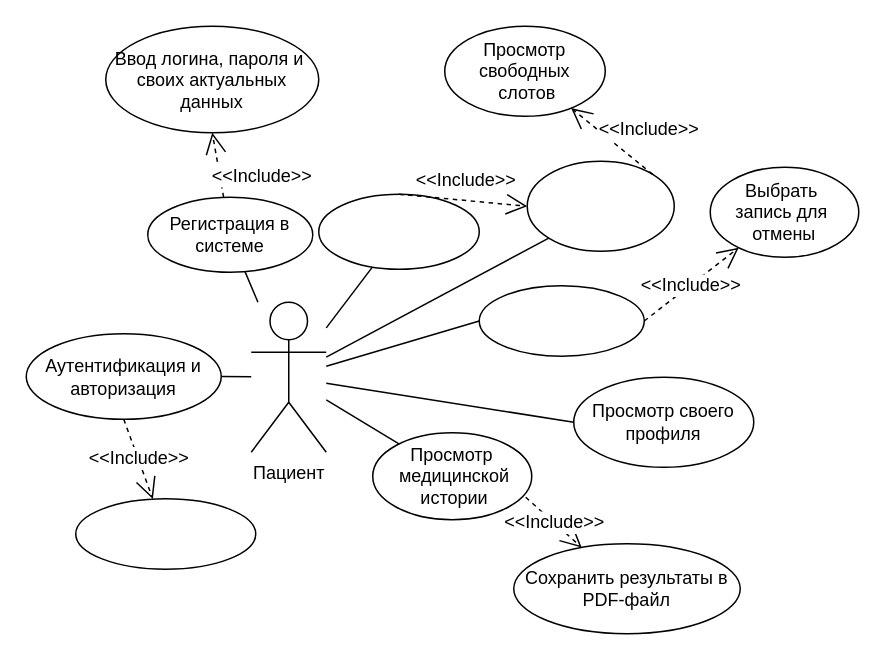
Image size: 885x660. Some labels were removed from this diagram. The shapes that lost their labels are listed below. From the top down, each one's centre as x and y in pixels, then its label:
(600,205): Просмотр списка врачей
(398,231): Записаться на прием
(561,320): Просмотр своих записей
(165,533): Ввод пароля и логина
